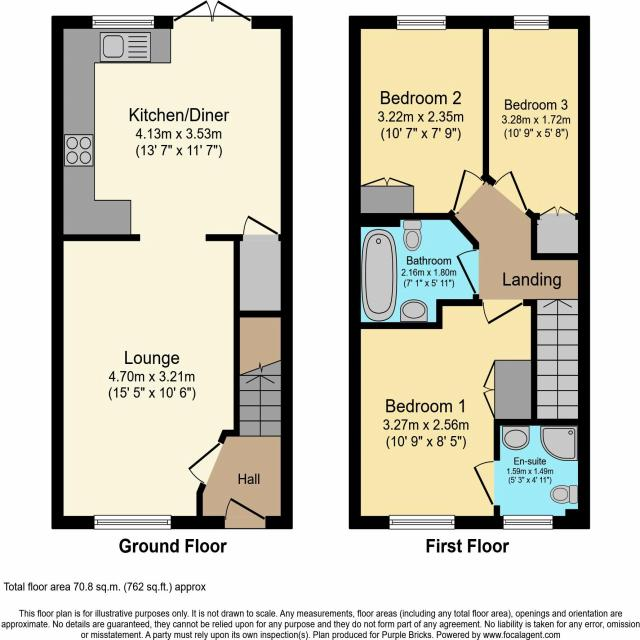DOOR: (449, 166, 486, 216), (186, 439, 224, 487), (493, 167, 529, 214), (222, 494, 269, 529), (479, 299, 530, 329), (471, 460, 500, 510), (454, 247, 480, 296), (241, 212, 282, 241)
DOUBLE DOOR: (168, 0, 254, 29)
ROOM: (349, 293, 590, 529), (349, 16, 486, 222), (487, 16, 591, 260)
WINDOW: (92, 513, 173, 532), (387, 513, 457, 532), (91, 13, 157, 31), (501, 513, 555, 532), (395, 14, 448, 33), (511, 13, 550, 32)
